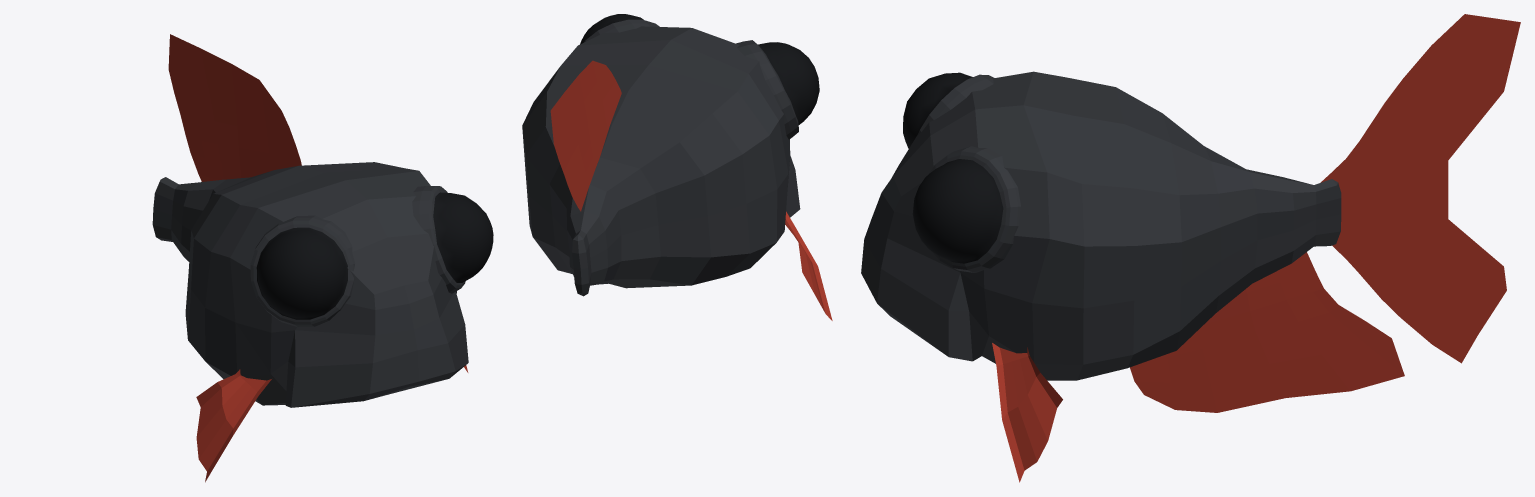
File: cc0-betta-lod0.glb
The picture shows the model from 3 angles, left to right: view 1: azimuth 30°, elevation 25°; view 2: azimuth 150°, elevation 25°; view 3: azimuth 270°, elevation 25°; orthographic projection. The views are drawn at different scales.
Visible parts, largest first — view 1: part_0; view 2: part_0; view 3: part_0.
Boxes of the visible parts, <box> form: part_0: <box>152,34,493,482</box>; part_0: <box>522,14,832,320</box>; part_0: <box>861,14,1520,482</box>.
Size of the model in its own units: 3.06 by 3.37 by 5.4.
